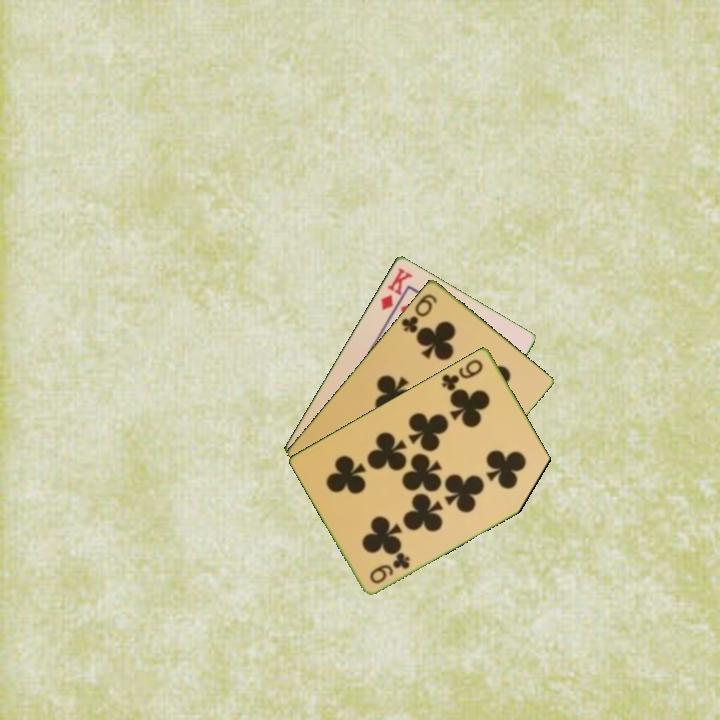6c: (397, 290, 440, 336)
9c: (438, 355, 486, 394), (366, 549, 413, 587)
Kd: (377, 264, 416, 313)
